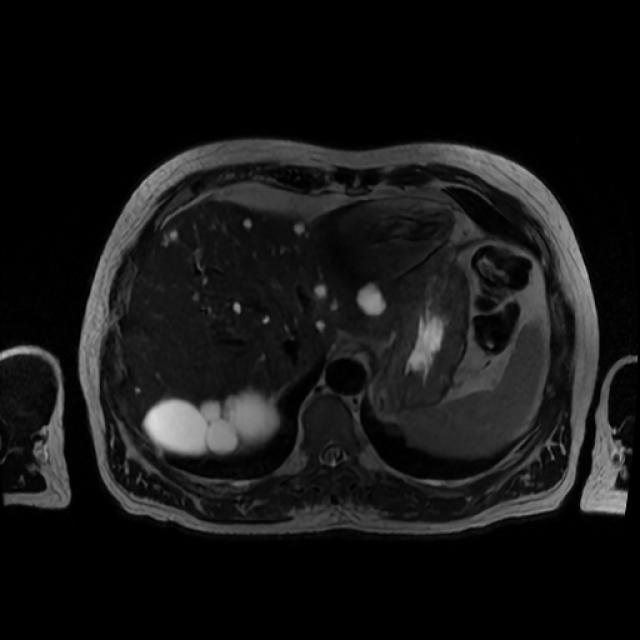sag: (143, 389, 277, 457)
